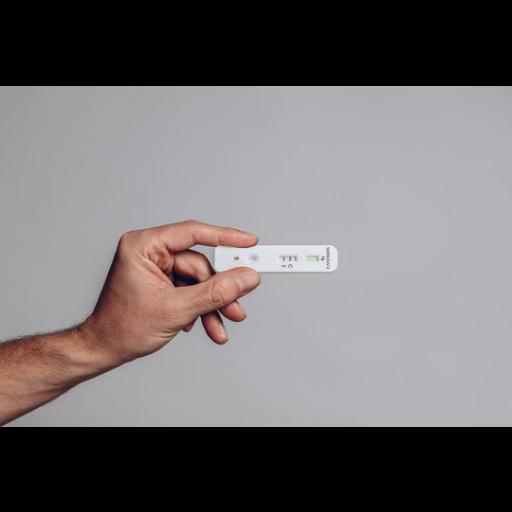Pos: (216, 246, 336, 270)
